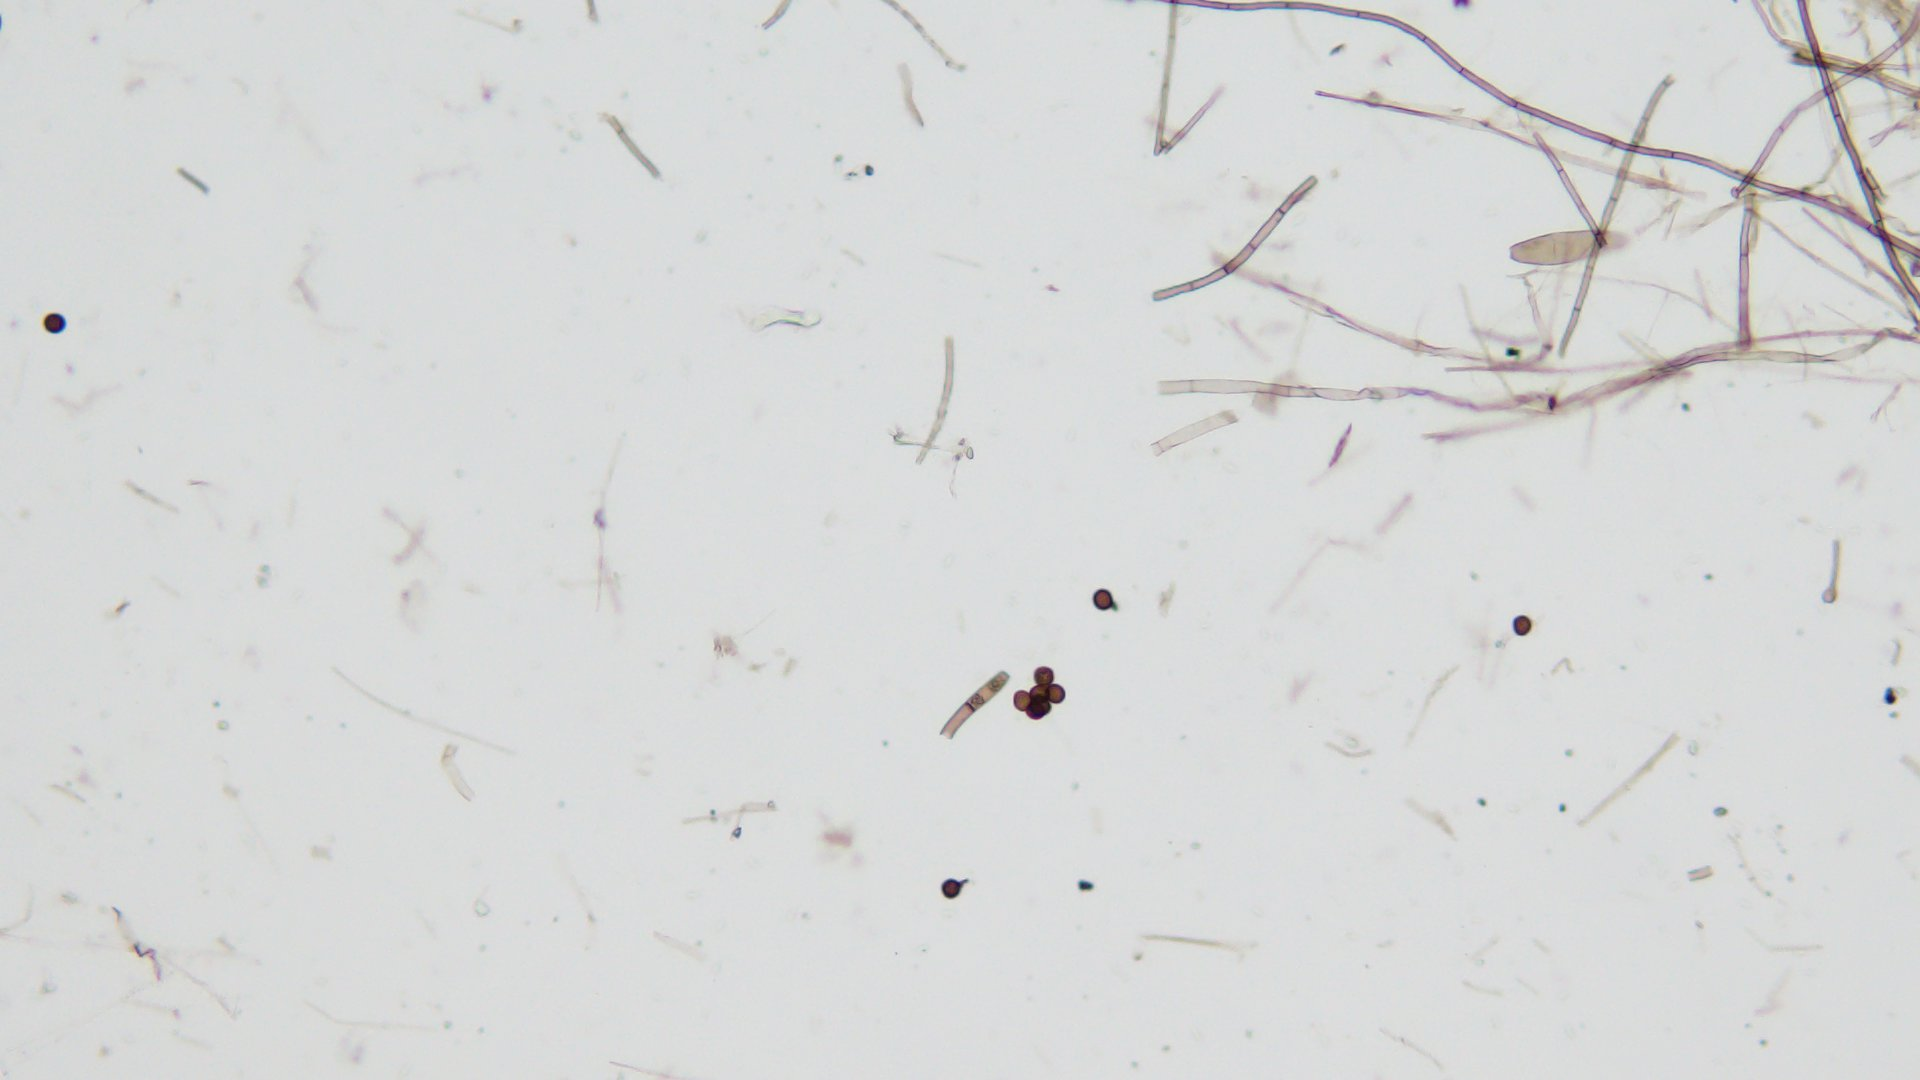dbb_spore: (1510, 233, 1625, 262)
shs_spore: (1091, 589, 1116, 611), (44, 313, 67, 332), (1011, 688, 1033, 709), (1513, 616, 1534, 637), (1034, 665, 1054, 687), (942, 878, 960, 899), (1047, 684, 1067, 703)
